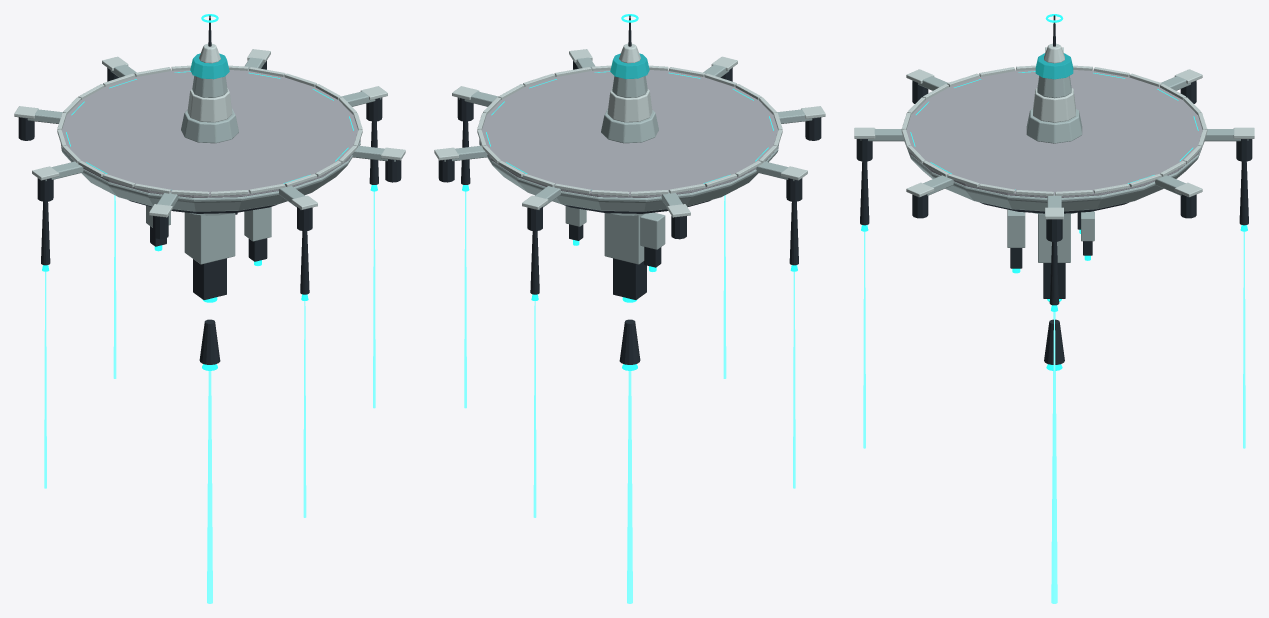
File: tempest-ozone-base-v3-lod1.glb
The picture shows the model from 3 angles, left to right: view 1: azimuth 30°, elevation 25°; view 2: azimuth 150°, elevation 25°; view 3: azimuth 270°, elevation 25°; orthographic projection.
Parts seen in each view (by area): view 1: tempest_ozone_base__lod1__Tempest deck surface far, tempest_ozone_base__lod1__Tempest hull plating far, tempest_ozone_base__lod1__Tempest light armor far, tempest_ozone_base__lod1__Tempest structural frame far, tempest_ozone_base__lod1__Tempest lift beam far, tempest_ozone_base__lod1__Tempest emissive guidance far, tempest_ozone_base__lod1__Tempest recessed glazing far; view 2: tempest_ozone_base__lod1__Tempest deck surface far, tempest_ozone_base__lod1__Tempest hull plating far, tempest_ozone_base__lod1__Tempest light armor far, tempest_ozone_base__lod1__Tempest structural frame far, tempest_ozone_base__lod1__Tempest lift beam far, tempest_ozone_base__lod1__Tempest emissive guidance far, tempest_ozone_base__lod1__Tempest recessed glazing far; view 3: tempest_ozone_base__lod1__Tempest deck surface far, tempest_ozone_base__lod1__Tempest hull plating far, tempest_ozone_base__lod1__Tempest light armor far, tempest_ozone_base__lod1__Tempest structural frame far, tempest_ozone_base__lod1__Tempest lift beam far, tempest_ozone_base__lod1__Tempest recessed glazing far, tempest_ozone_base__lod1__Tempest emissive guidance far.
Part boxes in pixels (x1,y1,x2,y2): tempest_ozone_base__lod1__Tempest deck surface far: (61, 70, 360, 197); tempest_ozone_base__lod1__Tempest hull plating far: (27, 57, 395, 264); tempest_ozone_base__lod1__Tempest light armor far: (14, 44, 405, 217); tempest_ozone_base__lod1__Tempest structural frame far: (18, 15, 401, 364); tempest_ozone_base__lod1__Tempest lift beam far: (44, 191, 375, 603); tempest_ozone_base__lod1__Tempest emissive guidance far: (42, 14, 377, 370); tempest_ozone_base__lod1__Tempest recessed glazing far: (190, 53, 229, 79); tempest_ozone_base__lod1__Tempest deck surface far: (479, 70, 778, 197); tempest_ozone_base__lod1__Tempest hull plating far: (444, 57, 812, 264); tempest_ozone_base__lod1__Tempest light armor far: (434, 43, 825, 217); tempest_ozone_base__lod1__Tempest structural frame far: (438, 15, 821, 364); tempest_ozone_base__lod1__Tempest lift beam far: (464, 191, 795, 603); tempest_ozone_base__lod1__Tempest emissive guidance far: (462, 14, 797, 370); tempest_ozone_base__lod1__Tempest recessed glazing far: (610, 53, 649, 79); tempest_ozone_base__lod1__Tempest deck surface far: (906, 70, 1202, 197); tempest_ozone_base__lod1__Tempest hull plating far: (860, 76, 1248, 262); tempest_ozone_base__lod1__Tempest light armor far: (854, 43, 1254, 219); tempest_ozone_base__lod1__Tempest structural frame far: (856, 15, 1252, 364); tempest_ozone_base__lod1__Tempest lift beam far: (863, 231, 1245, 603); tempest_ozone_base__lod1__Tempest recessed glazing far: (1035, 53, 1073, 79); tempest_ozone_base__lod1__Tempest emissive guidance far: (861, 14, 1247, 370).
Bounding box in the file's own units: 840 × 1358 × 840.
